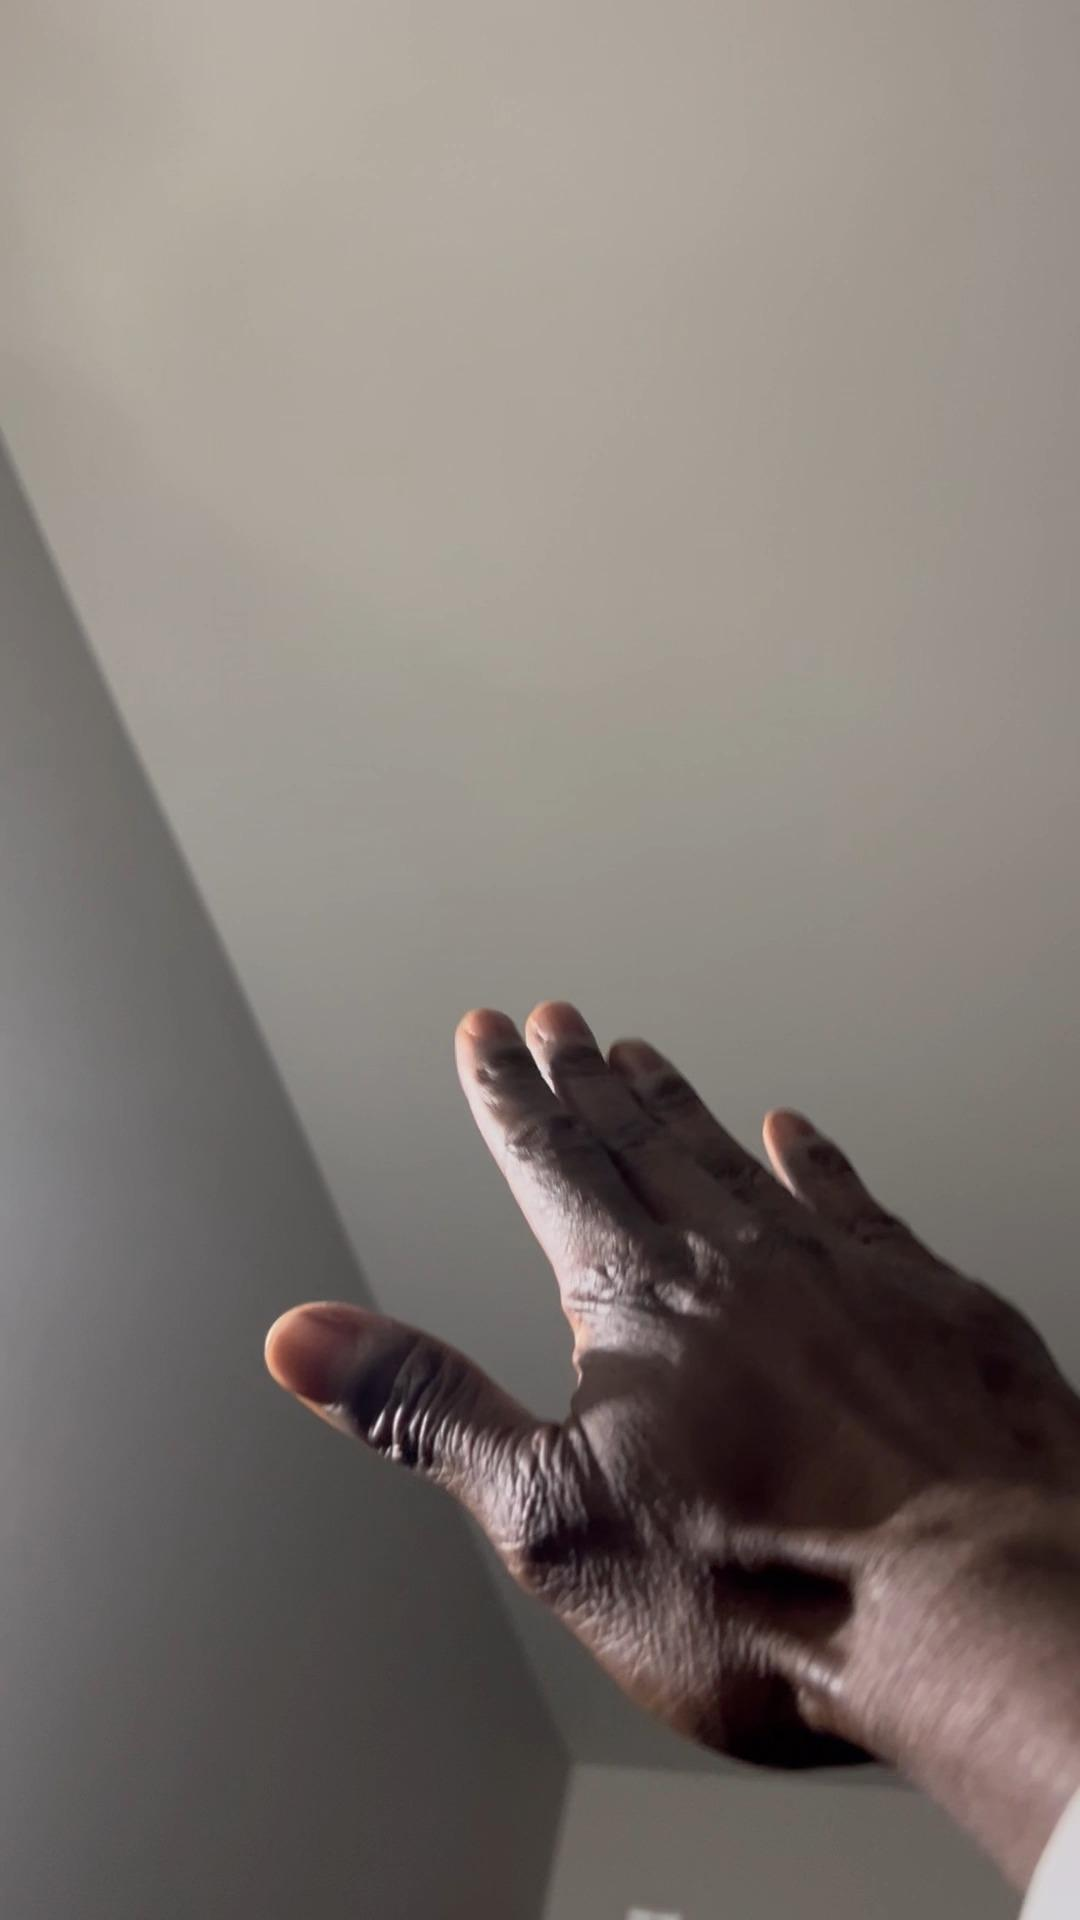Paper: (270, 986, 1080, 1779)
